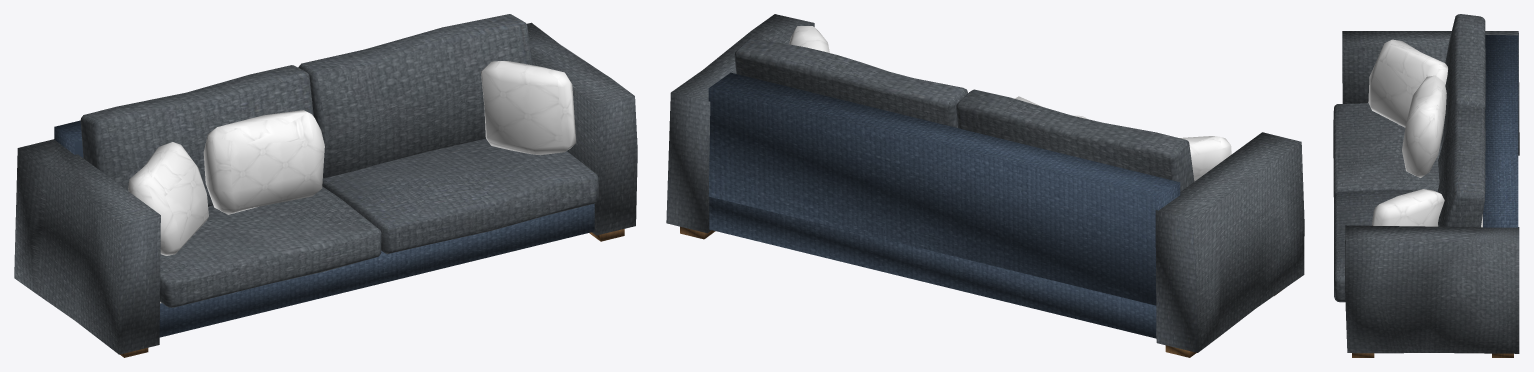
Rendered from Sofa_Pequeño.fbx.
3 renders of one model, left to right at view 1: azimuth 30°, elevation 25°; view 2: azimuth 150°, elevation 25°; view 3: azimuth 270°, elevation 25°, orthographic. The views are drawn at different scales.
Parts seen in each view (by area): view 1: Sofa_Peque; view 2: Sofa_Peque; view 3: Sofa_Peque.
Part boxes in pixels (x1=…): Sofa_Peque: x1=14, y1=14, x2=637, y2=357; Sofa_Peque: x1=666, y1=14, x2=1304, y2=357; Sofa_Peque: x1=1333, y1=14, x2=1519, y2=357.
Bounding box in the file's own units: 1179 × 391 × 432.
